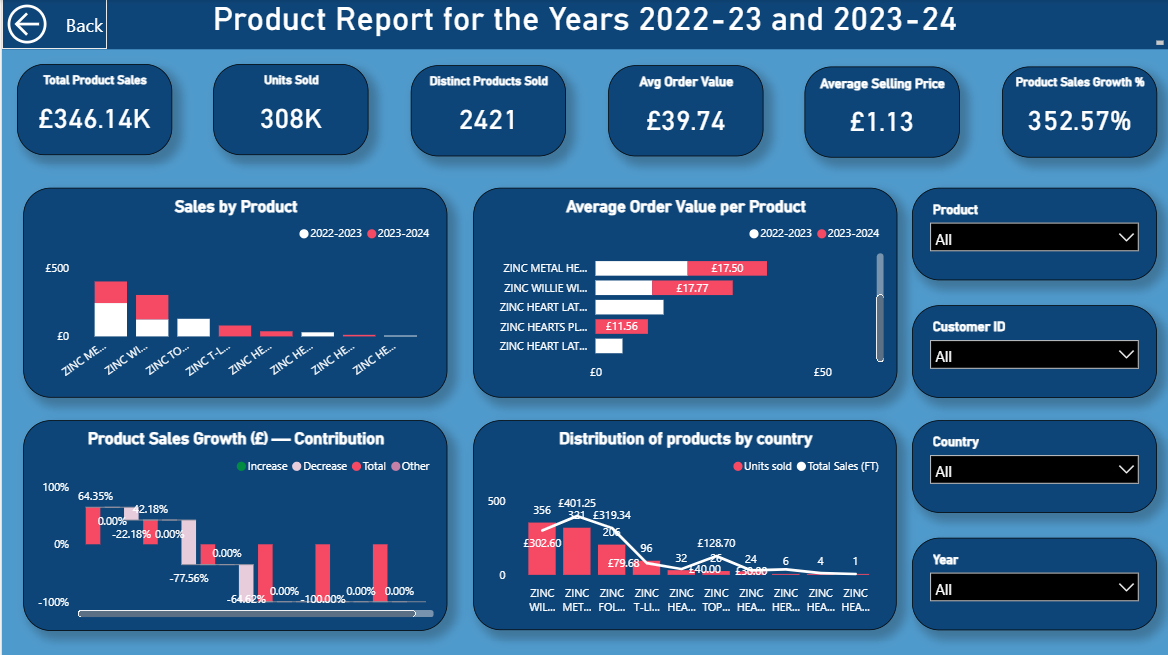

The page's visual inventory and layout, read from the dashboard file:
{"tool":"powerbi","page":{"name":"Product Analysis Report","canvas":[1280,720],"ordinal":2},"visuals":[{"type":"textbox","title":"Product Report for the Years 2022-23 and 2023-24","box":[0,0,1280.3,55],"z":0},{"type":"card","title":"Total Product Sales ","fields":{"Values":["Fact_Transactions.Total Sales (FT)"]},"box":[16.1,71.3,170,100],"z":1000},{"type":"card","title":"Avg Order Value","fields":{"Values":["Fact_Transactions.AOV"]},"box":[665,72.3,170,100],"z":2000},{"type":"card","title":"Distinct Products Sold","fields":{"Values":["Fact_Transactions.Distinct Products Sold"]},"box":[448.7,72.5,170,100],"z":3000},{"type":"card","title":"Units Sold","fields":{"Values":["Fact_Transactions.Units sold"]},"box":[232.4,71.8,170,100],"z":4000},{"type":"waterfallChart","title":"Product Sales Growth (£) — Contribution","fields":{"Category":["Fact_Transactions.Description"],"Y":["Fact_Transactions.Product Sales Growth %"],"Breakdown":["Fact_Transactions.Source Year"]},"box":[23.2,462.2,465.9,231.1],"z":5000},{"type":"columnChart","title":"Sales by Product","fields":{"Category":["Fact_Transactions.Description"],"Y":["Fact_Transactions.Total Sales (FT)"],"Series":["Fact_Transactions.Source Year"]},"box":[22.9,207.1,465.7,230],"z":6000},{"type":"barChart","title":"Average Order Value per Product","fields":{"Category":["Fact_Transactions.Description"],"Series":["Fact_Transactions.Source Year"],"Y":["Fact_Transactions.AOV"]},"box":[517.1,207.1,465.7,230],"z":7000},{"type":"lineClusteredColumnComboChart","title":"Distribution of products by country","fields":{"Category":["Fact_Transactions.Description"],"Y":["Fact_Transactions.Units sold"],"Y2":["Fact_Transactions.Total Sales (FT)"]},"box":[517.3,462.4,465.2,230.5],"z":8000},{"type":"card","title":"Average Selling Price","fields":{"Values":["Fact_Transactions.ASP"]},"box":[881.3,74.7,170,100],"z":9000},{"type":"card","title":"Product Sales Growth %","fields":{"Values":["Fact_Transactions.Product Sales Growth %"]},"box":[1097.8,74.7,170,100],"z":10000},{"type":"slicer","fields":{"Values":["Fact_Transactions.Source Year"]},"box":[999,591.4,269,101.5],"z":11000},{"type":"slicer","fields":{"Values":["Fact_Transactions.Description"]},"box":[999,207.2,269,101.5],"z":12000},{"type":"actionButton","box":[0,0,114.9,55],"z":13000},{"type":"slicer","fields":{"Values":["Fact_Transactions.Country"]},"box":[999,462.4,269,101.5],"z":14000},{"type":"slicer","fields":{"Values":["Fact_Transactions.Customer ID"]},"box":[999,336.2,269,101.5],"z":15000}]}

Visuals, with their boxes in screenshot pixels (x1, y1, x2, y2), scaled from the page's 1280x720 canvas onto the 1168x655 screenshot:
"Product Report for the Years 2022-23 and 2023-24" textbox: rect(0, 0, 1167, 50)
"Total Product Sales " card: rect(15, 65, 170, 156)
"Avg Order Value" card: rect(607, 66, 762, 157)
"Distinct Products Sold" card: rect(409, 66, 565, 157)
"Units Sold" card: rect(212, 65, 367, 156)
"Product Sales Growth (£) — Contribution" waterfallChart: rect(21, 420, 446, 631)
"Sales by Product" columnChart: rect(21, 188, 446, 398)
"Average Order Value per Product" barChart: rect(472, 188, 897, 398)
"Distribution of products by country" lineClusteredColumnComboChart: rect(472, 421, 897, 630)
"Average Selling Price" card: rect(804, 68, 959, 159)
"Product Sales Growth %" card: rect(1002, 68, 1157, 159)
slicer - Fact_Transactions.Source Year: rect(912, 538, 1157, 630)
slicer - Fact_Transactions.Description: rect(912, 188, 1157, 281)
actionButton: rect(0, 0, 105, 50)
slicer - Fact_Transactions.Country: rect(912, 421, 1157, 513)
slicer - Fact_Transactions.Customer ID: rect(912, 306, 1157, 398)
